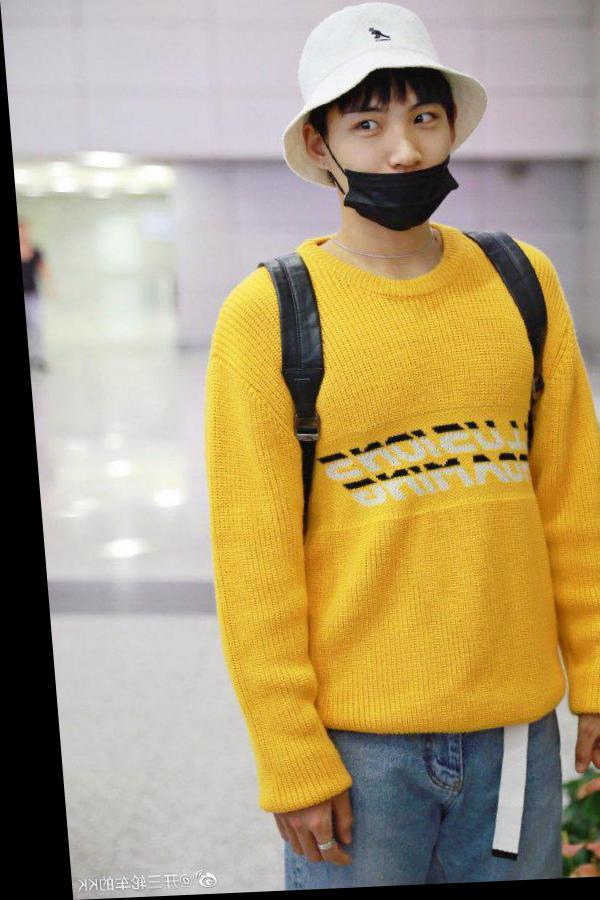WRONG: (325, 95, 458, 239)
